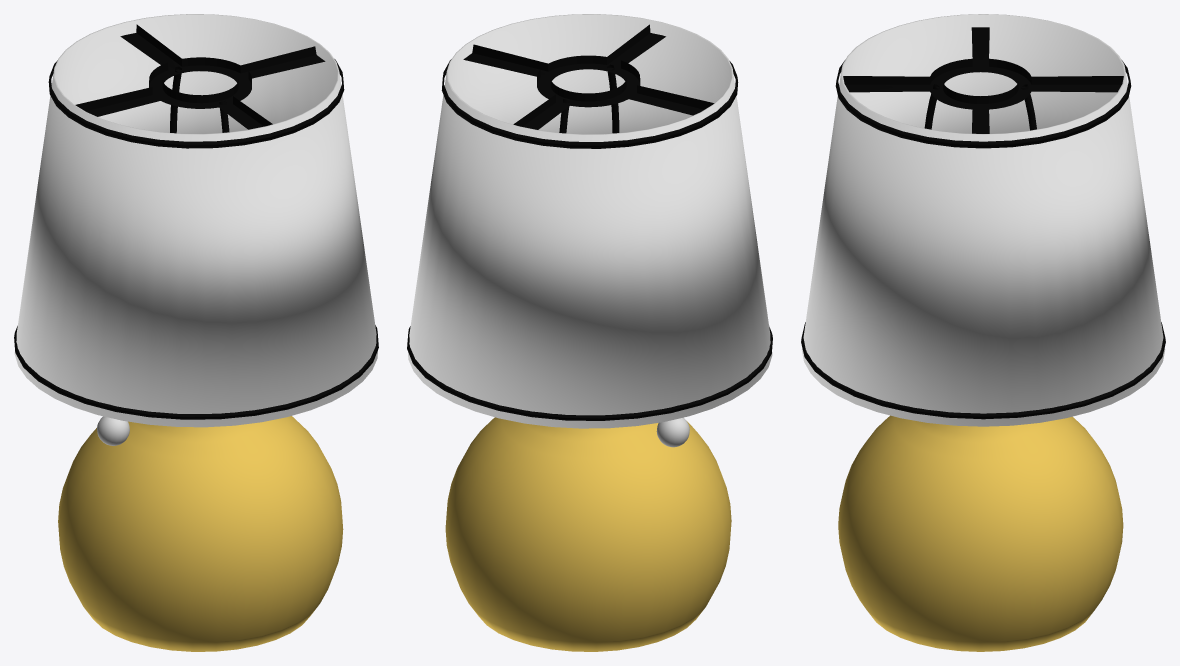
Rendered from Lamp OrangeTan.glb.
The picture shows the model from 3 angles, left to right: view 1: azimuth 30°, elevation 25°; view 2: azimuth 150°, elevation 25°; view 3: azimuth 270°, elevation 25°; orthographic projection.
Parts seen in each view (by area): view 1: Orange; view 2: Orange; view 3: Orange.
Boxes of the visible parts, x1,y1,x2,y2 form: Orange: [14, 14, 378, 651]; Orange: [407, 14, 772, 651]; Orange: [801, 14, 1165, 651].
Size of the model in its own units: 0.4588 by 0.7331 by 0.4588.
